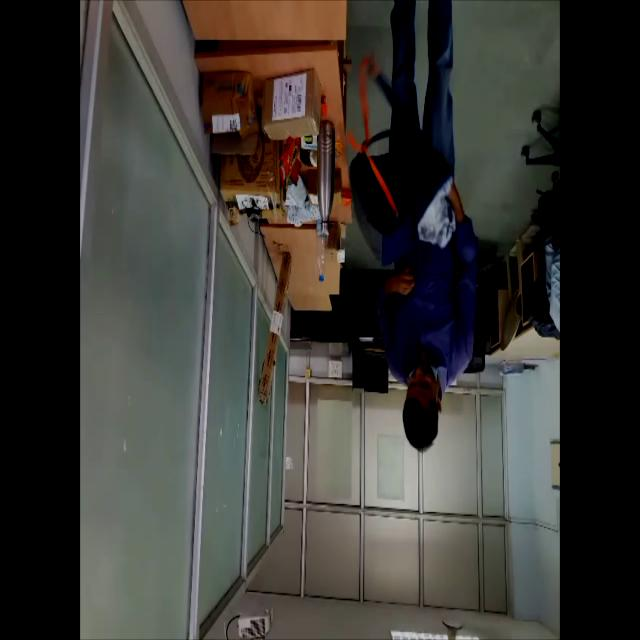shoplifting: (346, 2, 482, 466)
